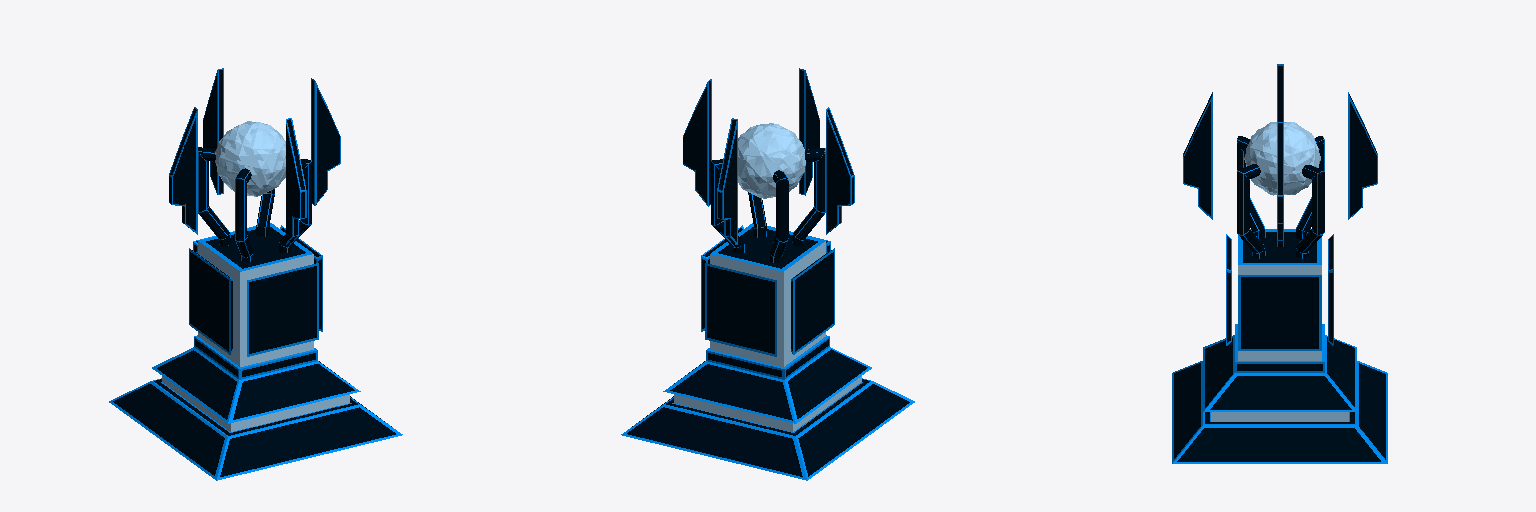
3 renders of one model, left to right at view 1: azimuth 30°, elevation 25°; view 2: azimuth 150°, elevation 25°; view 3: azimuth 270°, elevation 25°, orthographic.
Parts seen in each view (by area): view 1: Conjuration_L3_Base, Conjuration_L2_Panel_3, Conjuration_L2_Panel_1, Conjuration_L3_Float_2, Conjuration_L3_Float_1, Conjuration_L3_Energy_1, Conjuration_L3_Energy_2, Conjuration_L3_Float_004, Conjuration_L3_Float_3, Conjuration_L3_Pipe_3, Conjuration_L3_Pipe_2, Conjuration_L3_Pipe_4 (+1 smaller); view 2: Conjuration_L3_Base, Conjuration_L2_Panel_4, Conjuration_L2_Panel_1, Conjuration_L3_Float_2, Conjuration_L3_Float_1, Conjuration_L3_Energy_1, Conjuration_L3_Float_3, Conjuration_L3_Energy_2, Conjuration_L3_Float_004, Conjuration_L3_Pipe_2, Conjuration_L3_Pipe_3, Conjuration_L3_Pipe_1 (+1 smaller); view 3: Conjuration_L3_Base, Conjuration_L2_Panel_2, Conjuration_L3_Float_3, Conjuration_L3_Float_004, Conjuration_L3_Energy_2, Conjuration_L3_Energy_1, Conjuration_L3_Pipe_4, Conjuration_L3_Pipe_1, Conjuration_L3_Float_2, Conjuration_L3_Pipe_2, Conjuration_L2_Panel_3, Conjuration_L2_Panel_4 (+1 smaller).
Part boxes in pixels (bbox=[...]): Conjuration_L3_Base: bbox=[109, 223, 402, 480]; Conjuration_L2_Panel_3: bbox=[247, 263, 318, 356]; Conjuration_L2_Panel_1: bbox=[189, 248, 232, 354]; Conjuration_L3_Float_2: bbox=[311, 78, 340, 205]; Conjuration_L3_Float_1: bbox=[169, 107, 197, 234]; Conjuration_L3_Energy_1: bbox=[215, 121, 285, 196]; Conjuration_L3_Energy_2: bbox=[215, 122, 285, 195]; Conjuration_L3_Float_004: bbox=[286, 118, 306, 244]; Conjuration_L3_Float_3: bbox=[203, 68, 223, 194]; Conjuration_L3_Pipe_3: bbox=[198, 147, 230, 246]; Conjuration_L3_Pipe_2: bbox=[235, 168, 252, 261]; Conjuration_L3_Pipe_4: bbox=[279, 159, 311, 252]; Conjuration_L3_Base: bbox=[621, 223, 914, 480]; Conjuration_L2_Panel_4: bbox=[705, 263, 776, 356]; Conjuration_L2_Panel_1: bbox=[791, 248, 834, 354]; Conjuration_L3_Float_2: bbox=[683, 79, 711, 206]; Conjuration_L3_Float_1: bbox=[826, 107, 854, 234]; Conjuration_L3_Energy_1: bbox=[738, 123, 805, 198]; Conjuration_L3_Float_3: bbox=[717, 118, 737, 244]; Conjuration_L3_Energy_2: bbox=[738, 124, 804, 197]; Conjuration_L3_Float_004: bbox=[799, 68, 819, 195]; Conjuration_L3_Pipe_2: bbox=[792, 148, 825, 246]; Conjuration_L3_Pipe_3: bbox=[770, 170, 788, 262]; Conjuration_L3_Pipe_1: bbox=[711, 159, 744, 253]; Conjuration_L3_Base: bbox=[1172, 229, 1387, 463]; Conjuration_L2_Panel_2: bbox=[1238, 275, 1321, 350]; Conjuration_L3_Float_3: bbox=[1348, 92, 1377, 219]; Conjuration_L3_Float_004: bbox=[1183, 92, 1212, 219]; Conjuration_L3_Energy_2: bbox=[1246, 122, 1318, 195]; Conjuration_L3_Energy_1: bbox=[1244, 122, 1320, 194]; Conjuration_L3_Pipe_4: bbox=[1237, 164, 1265, 258]; Conjuration_L3_Pipe_1: bbox=[1296, 165, 1324, 258]; Conjuration_L3_Float_2: bbox=[1277, 122, 1283, 246]; Conjuration_L3_Pipe_2: bbox=[1237, 136, 1265, 239]; Conjuration_L2_Panel_3: bbox=[1226, 234, 1231, 345]; Conjuration_L2_Panel_4: bbox=[1328, 234, 1333, 345].
Size of the model in its own units: 20 by 33.2 by 20.
Materials: 2 (1 with a texture image).